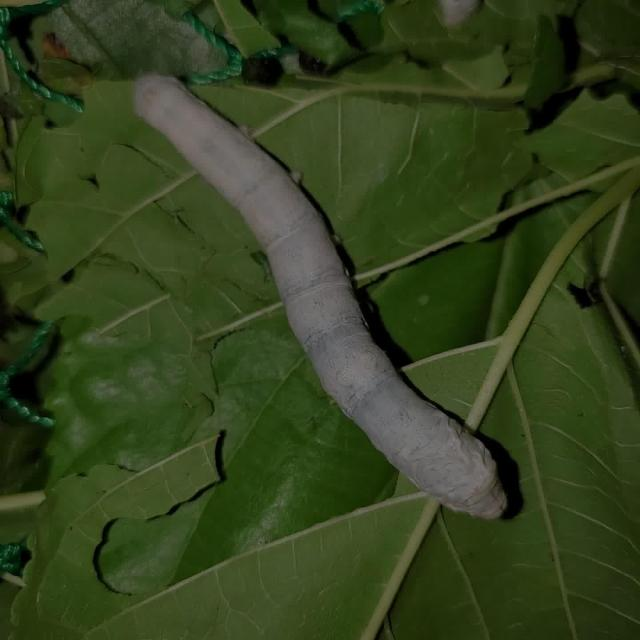Healthy: (101, 51, 547, 533)
